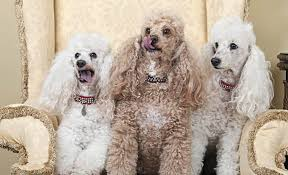Bulldog: (198, 17, 277, 175), (119, 17, 191, 175), (34, 32, 116, 168)
